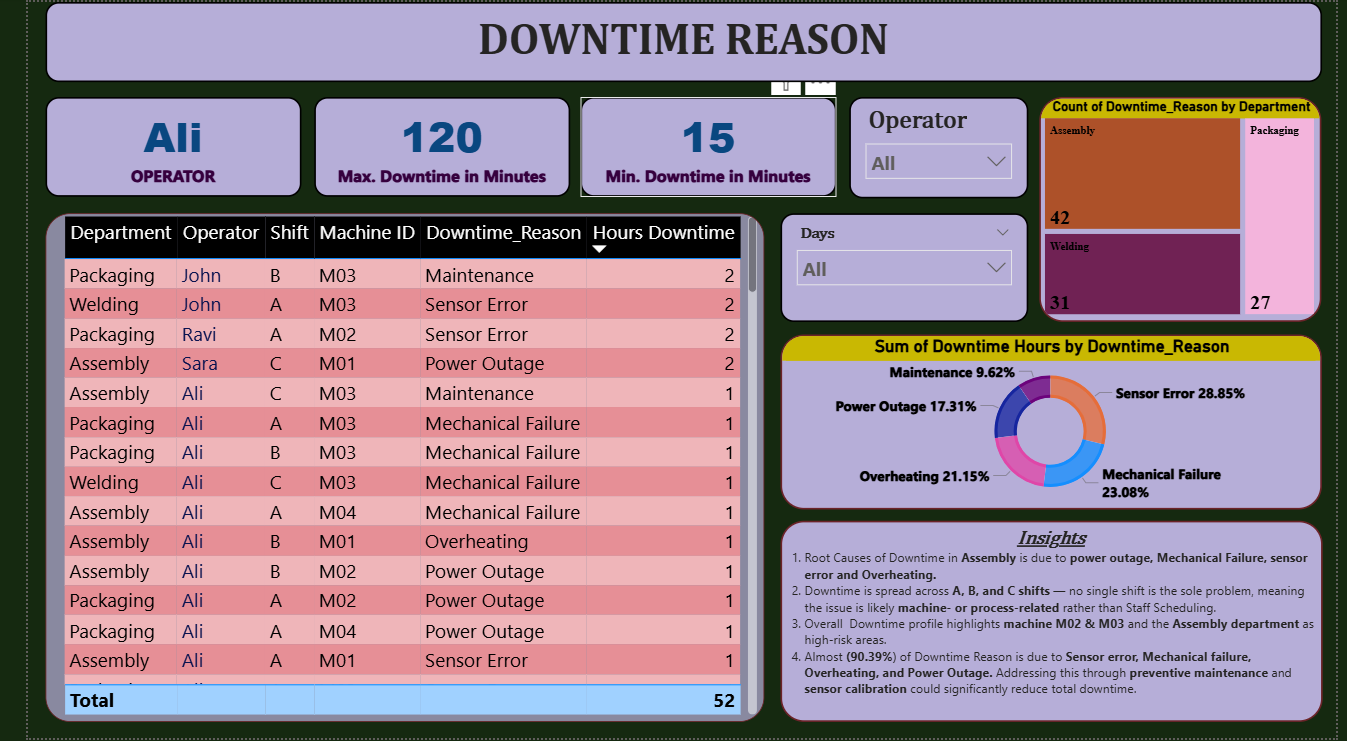

Layout of this report page (visuals, bound fields, positions):
{"tool":"powerbi","page":{"name":"DOWNTIME_REASON","canvas":[1280,720],"ordinal":1},"visuals":[{"type":"card","fields":{"Values":["Downtime Data.Operator"]},"box":[17.1,92.9,250.7,97.8],"z":0},{"type":"card","fields":{"Values":["Downtime Data.DowntimeMinutes"]},"box":[540.5,92.9,250.7,97.8],"z":1000},{"type":"card","fields":{"Values":["Downtime Data.DowntimeMinutes"]},"box":[280,92.9,250.7,97.8],"z":2000},{"type":"textbox","box":[17.5,0,1248.8,78.8],"z":3000},{"type":"tableEx","fields":{"Values":["Downtime Data.Department","Downtime Data.Operator","Downtime Data.Shift","Downtime Data.Machine_ID","Downtime Data.Downtime_Reason","Downtime Data.Downtime Hours"]},"box":[17.1,206.7,703.1,497.7],"z":4000},{"type":"donutChart","fields":{"Y":["Downtime Data.Downtime Hours"],"Category":["Downtime Data.Downtime_Reason"]},"box":[736.1,325.3,529.5,171.2],"z":6000},{"type":"treemap","fields":{"Group":["Downtime Data.Department"],"Values":["Downtime Data.Downtime_Reason"]},"box":[989.3,92.9,276.4,220.1],"z":7000},{"type":"slicer","fields":{"Values":["Downtime Data.Operator"]},"box":[803.4,92.9,174.9,99],"z":8000},{"type":"slicer","fields":{"Values":["Downtime Data.DayFromStart"]},"box":[736.1,206.7,242.1,106.4],"z":9000},{"type":"textbox","box":[736.1,507.5,530.7,196.9],"z":9001}]}

Visuals, with their boxes in screenshot pixels (x1, y1, x2, y2), scaled from the page's 1280x720 canvas onto the 1347x741 screenshot:
card - Downtime Data.Operator: Rect(18, 96, 282, 196)
card - Downtime Data.DowntimeMinutes: Rect(569, 96, 833, 196)
card - Downtime Data.DowntimeMinutes: Rect(295, 96, 558, 196)
textbox: Rect(18, 0, 1333, 81)
tableEx - Downtime Data.Department x Downtime Data.Operator: Rect(18, 213, 758, 725)
donutChart - Downtime Data.Downtime Hours x Downtime Data.Downtime_Reason: Rect(775, 335, 1332, 511)
treemap - Downtime Data.Department x Downtime Data.Downtime_Reason: Rect(1041, 96, 1332, 322)
slicer - Downtime Data.Operator: Rect(845, 96, 1030, 197)
slicer - Downtime Data.DayFromStart: Rect(775, 213, 1029, 322)
textbox: Rect(775, 522, 1333, 725)
